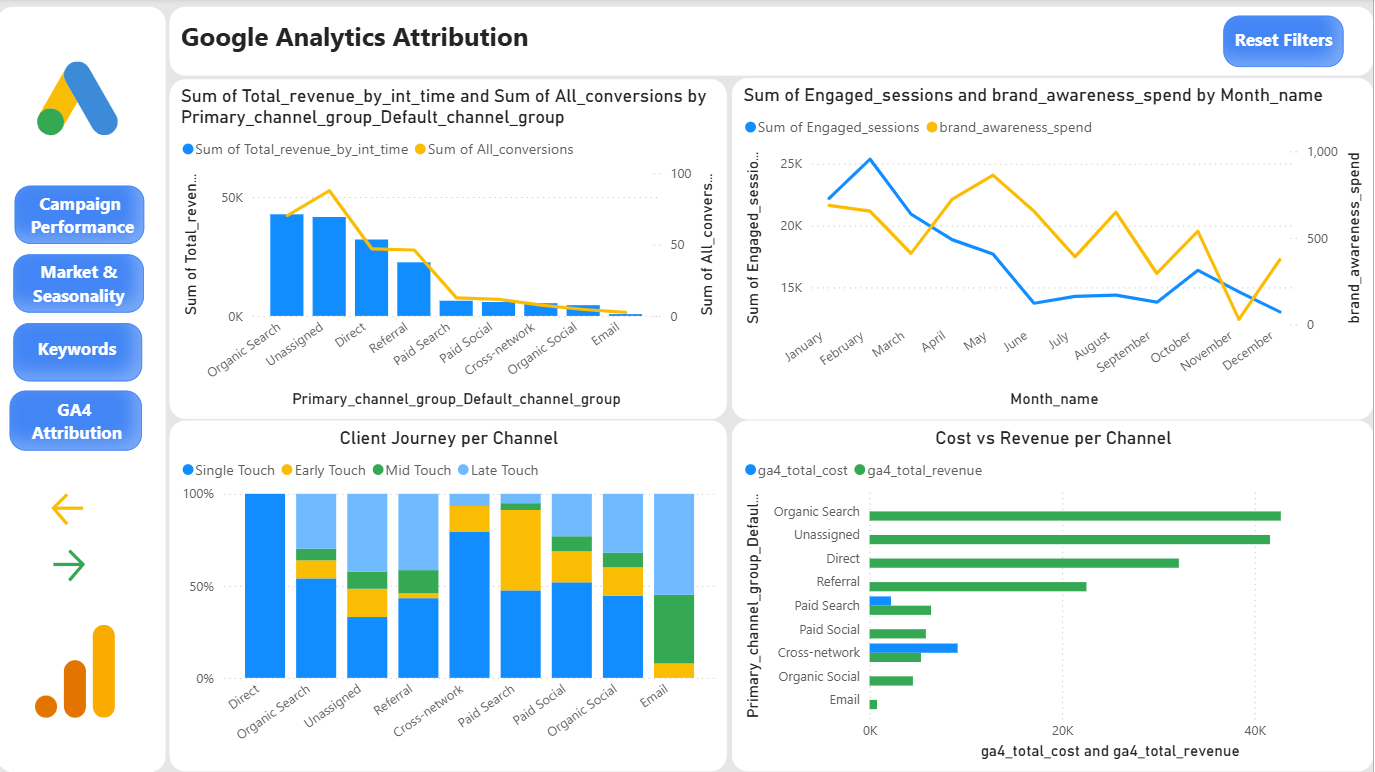

The dashboard page shown, as its layout file describes it:
{"tool":"powerbi","page":{"name":"GA4 Attribution","canvas":[1280,720],"ordinal":4},"visuals":[{"type":"clusteredBarChart","title":"What Channel is the most profitable?","fields":{"Category":["Conversion_attribution_analysis.Primary_channel_group_Default_channel_group"],"Y":["_Measures.ga4_total_cost","_Measures.ga4_total_revenue"]},"box":[683.3,395.6,596.7,323.3],"z":0},{"type":"hundredPercentStackedColumnChart","title":"What´s Client Journey per Channel?","fields":{"Y":["Sum(Conversion_attribution_analysis.Single_touch_point_credit_by_int_time)","Sum(Conversion_attribution_analysis.Early_touch_point_credit_by_int_time)","Sum(Conversion_attribution_analysis.Mid_touch_point_credit_by_int_time)","Sum(Conversion_attribution_analysis.Late_touch_point_credit_by_int_time)"],"Category":["Conversion_attribution_analysis.Primary_channel_group_Default_channel_group"]},"box":[160.5,393,518.6,326.7],"z":1000},{"type":"lineClusteredColumnComboChart","title":"What Channel performs the best?","fields":{"Category":["Conversion_attribution_analysis.Primary_channel_group_Default_channel_group"],"Y":["Sum(Conversion_attribution_analysis.Total_revenue_by_int_time)"],"Y2":["Sum(Conversion_attribution_analysis.All_conversions)"]},"box":[160.5,75.6,518.6,316.3],"z":2000},{"type":"lineChart","title":"Are Brand Awarness Campaings working?","fields":{"Y":["Sum(Month final.Engaged_sessions)"],"Y2":["_Measures.brand_awareness_spend"],"Category":["Month final.Month_name"]},"box":[684.1,76.8,595.7,317.4],"z":3000},{"type":"textbox","box":[0,8.1,157,711.6],"z":4000},{"type":"textbox","box":[160.5,8.1,1119.8,64],"z":5000},{"type":"textbox","box":[1140.7,16.3,111.6,47.7],"z":6000},{"type":"textbox","box":[1146.5,22.1,112.8,43],"z":7000},{"type":"image","box":[37.2,0,75.6,187.2],"z":8000},{"type":"textbox","box":[11.6,365.1,123.3,55.8],"z":9000},{"type":"textbox","box":[1.2,366.3,146.5,55.8],"z":10000},{"type":"textbox","box":[15.1,302.3,119.8,54.7],"z":11000},{"type":"textbox","box":[22.1,309.3,104.7,41.9],"z":12000},{"type":"textbox","box":[14.9,238.2,121.8,54.1],"z":13000},{"type":"textbox","box":[18.9,238.2,115,67.7],"z":14000},{"type":"textbox","box":[16.3,174.4,120.9,54.7],"z":15000},{"type":"textbox","box":[18.6,174.4,122.1,79.1],"z":16000},{"type":"image","box":[34.9,566.3,75.6,119.8],"z":17000},{"type":"actionButton","box":[46.5,455.8,100,39.5],"z":18000},{"type":"actionButton","box":[46.5,508.1,100,39.5],"z":19000},{"type":"advancedSlicerVisual","fields":{"Values":["campaigns_clean.Year"]},"box":[705.8,11.6,430.4,55.1],"z":20000}]}

Visuals, with their boxes in screenshot pixels (x1, y1, x2, y2), scaled from the page's 1280x720 canvas onto the 1375x772 screenshot:
"What Channel is the most profitable?" clusteredBarChart: crop(734, 424, 1374, 771)
"What´s Client Journey per Channel?" hundredPercentStackedColumnChart: crop(172, 421, 730, 771)
"What Channel performs the best?" lineClusteredColumnComboChart: crop(172, 81, 730, 420)
"Are Brand Awarness Campaings working?" lineChart: crop(735, 82, 1374, 423)
textbox: crop(0, 9, 169, 771)
textbox: crop(172, 9, 1374, 77)
textbox: crop(1225, 17, 1345, 69)
textbox: crop(1232, 24, 1353, 70)
image: crop(40, 0, 121, 201)
textbox: crop(12, 391, 145, 451)
textbox: crop(1, 393, 159, 453)
textbox: crop(16, 324, 145, 383)
textbox: crop(24, 332, 136, 377)
textbox: crop(16, 255, 147, 313)
textbox: crop(20, 255, 144, 328)
textbox: crop(18, 187, 147, 246)
textbox: crop(20, 187, 151, 272)
image: crop(37, 607, 119, 736)
actionButton: crop(50, 489, 157, 531)
actionButton: crop(50, 545, 157, 587)
advancedSlicerVisual - campaigns_clean.Year: crop(758, 12, 1221, 72)
